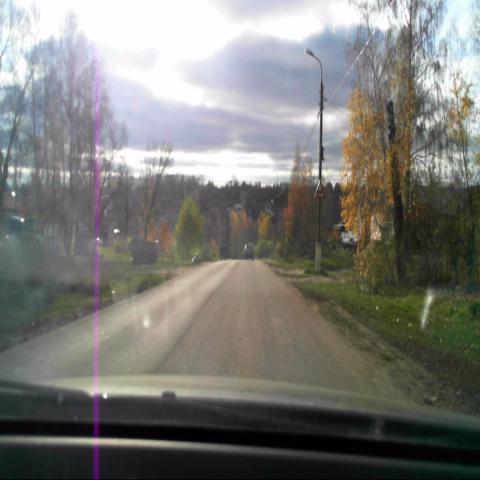1_12: (314, 180, 324, 199)
